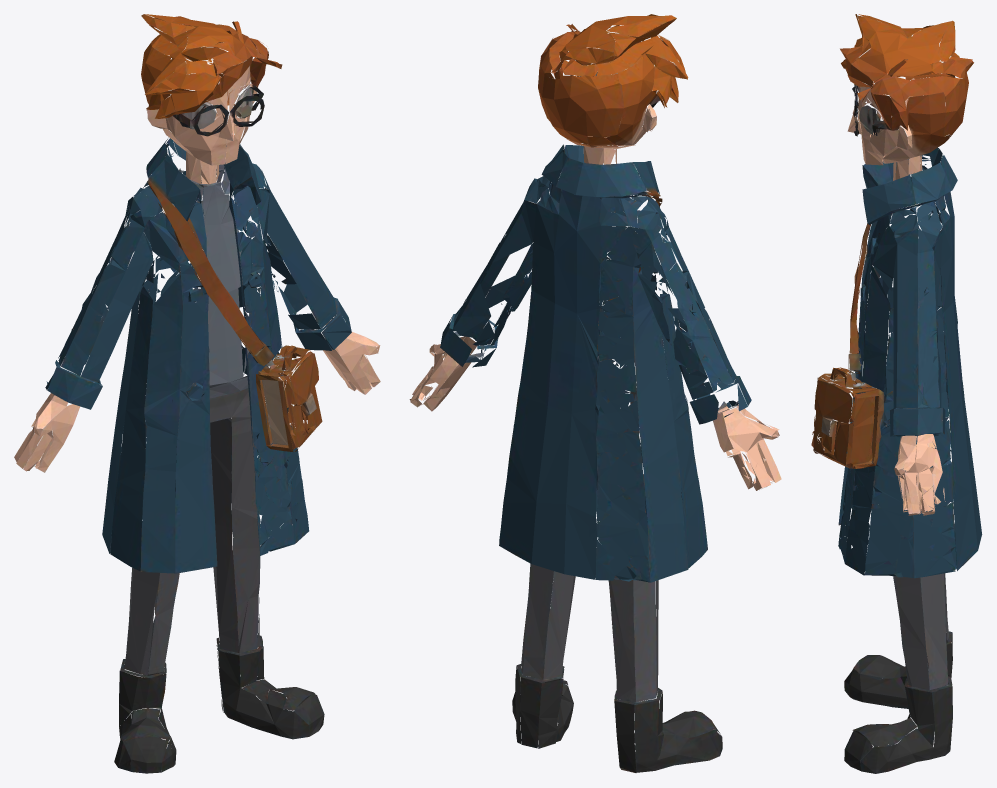
Rendered from equipier.glb.
The picture shows the model from 3 angles, left to right: view 1: azimuth 30°, elevation 25°; view 2: azimuth 150°, elevation 25°; view 3: azimuth 270°, elevation 25°; orthographic projection. The views are drawn at different scales.
Visible parts, largest first — view 1: equipier; view 2: equipier; view 3: equipier.
Part boxes in pixels (x1=…): equipier: x1=14, y1=14, x2=380, y2=773; equipier: x1=409, y1=14, x2=781, y2=772; equipier: x1=811, y1=14, x2=982, y2=773.
Bounding box in the file's own units: 0.5272 × 1 × 0.224.
1 material, 1 textured.
